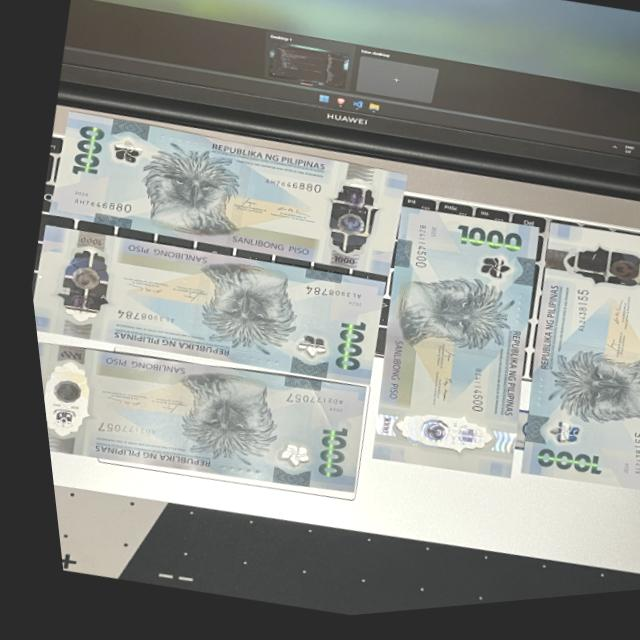clear_window: (358, 399, 510, 487), (32, 222, 127, 348), (30, 335, 105, 462)
eagle: (368, 263, 513, 379), (111, 137, 249, 255), (177, 249, 299, 369), (521, 336, 640, 457)
sampaguita: (273, 327, 328, 377), (253, 435, 308, 483), (457, 252, 512, 300), (96, 130, 147, 177), (526, 421, 576, 466)
